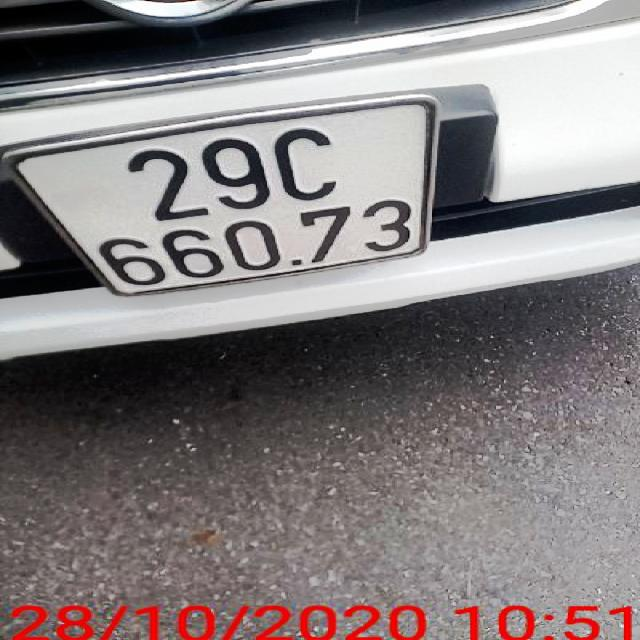license_plate: (11, 101, 427, 299)
